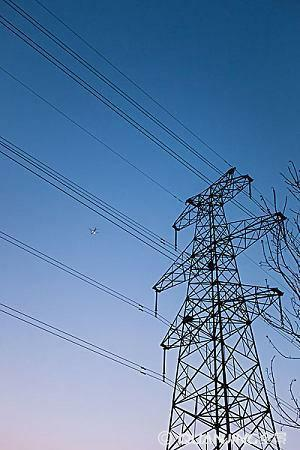power_tower: (154, 161, 282, 450)
